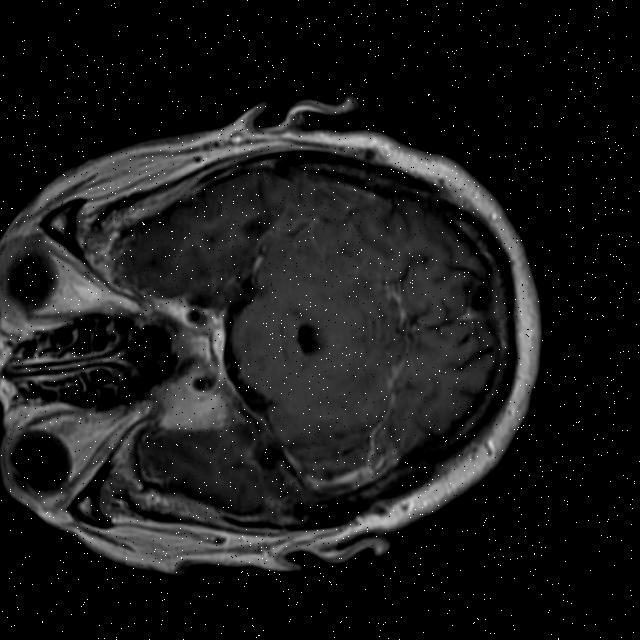Meningioma: (154, 376, 244, 444)
